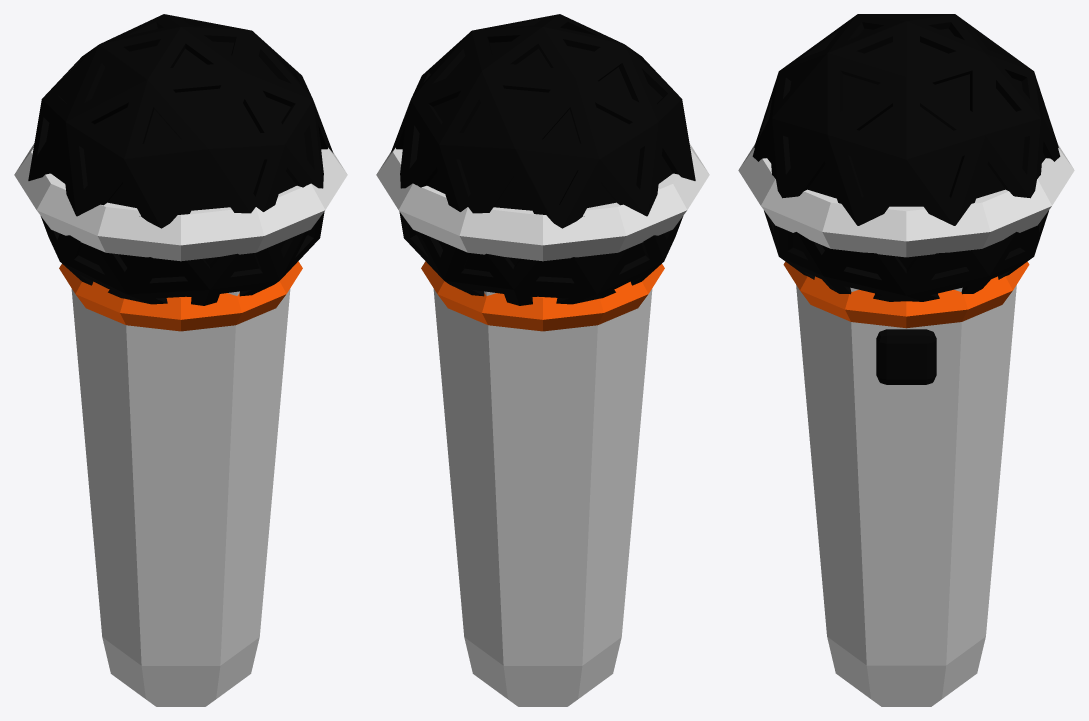
Rendered from Microphone.glb.
The picture shows the model from 3 angles, left to right: view 1: azimuth 30°, elevation 25°; view 2: azimuth 150°, elevation 25°; view 3: azimuth 270°, elevation 25°; orthographic projection.
Visible parts, largest first — view 1: Cylinder, Icosphere, Torus.006, Torus.005; view 2: Cylinder, Icosphere, Torus.006, Torus.005; view 3: Cylinder, Icosphere, Torus.006, Torus.005, Cube.010.
Boxes of the visible parts, x1=… form: Cylinder: x1=71, y1=289, x2=290, y2=706; Icosphere: x1=28, y1=14, x2=333, y2=305; Torus.006: x1=14, y1=143, x2=347, y2=261; Torus.005: x1=59, y1=261, x2=302, y2=331; Cylinder: x1=433, y1=289, x2=652, y2=706; Icosphere: x1=390, y1=14, x2=695, y2=305; Torus.006: x1=376, y1=143, x2=709, y2=261; Torus.005: x1=421, y1=261, x2=664, y2=331; Cylinder: x1=796, y1=285, x2=1016, y2=706; Icosphere: x1=752, y1=14, x2=1060, y2=301; Torus.006: x1=738, y1=144, x2=1074, y2=257; Torus.005: x1=783, y1=261, x2=1029, y2=328; Cube.010: x1=876, y1=329, x2=936, y2=384.
Size of the model in its own units: 2.93 by 6.41 by 2.93.
